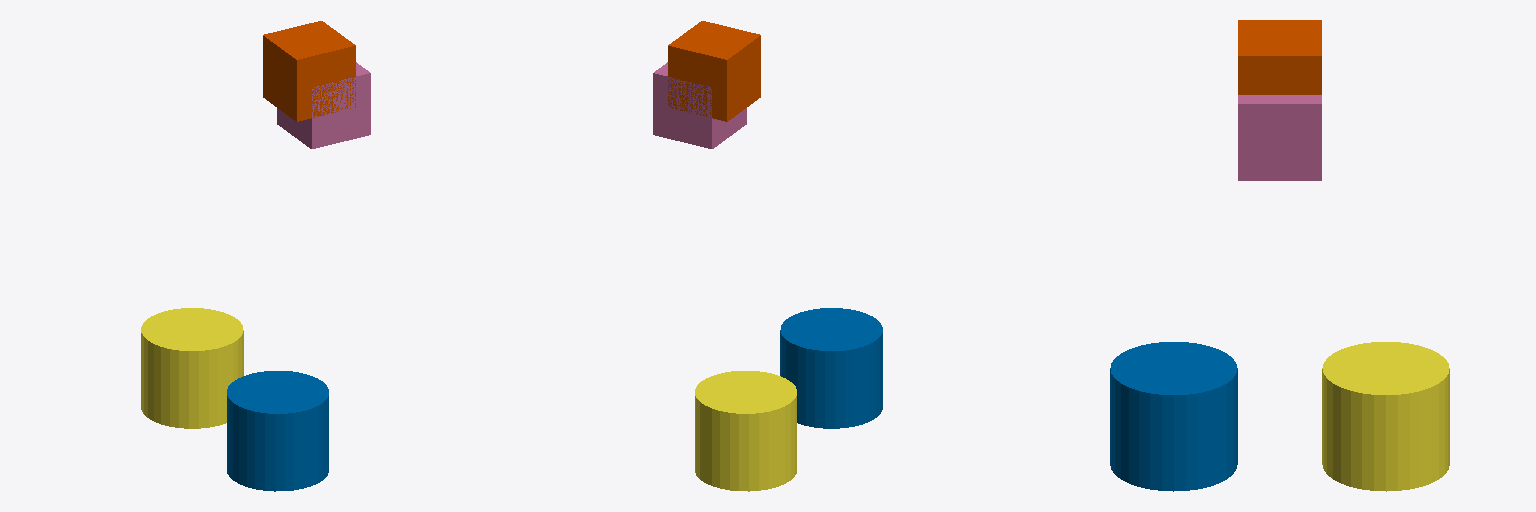
robot.urdf — navel_robot:
<?xml version="1.0"?>
<robot name="navel_robot">


  <link name="base_link"/>

 
  <link name="left_wheel_link">
  </link>

  <joint name="left wheel" type="continuous">
    <parent link="base_link"/>
    <child link="left_wheel_link"/>
  
    <origin xyz="0 0.165 0" rpy="0 0 0"/>
    <axis xyz="0 1 0"/>
  </joint>

  <link name="right_wheel_link">
  </link>

  <joint name="right wheel" type="continuous">
    <parent link="base_link"/>
    <child link="right_wheel_link"/>
    <origin xyz="0 -0.165 0" rpy="0 0 0"/>
    <axis xyz="0 1 0"/>
  </joint>


  <link name="lidar_left_link">
    <visual>
      <geometry>
        <cylinder radius="0.03" length="0.05"/>
      </geometry>
    </visual>
  </link>

  <joint name="lidar_left_joint" type="fixed">
    <parent link="base_link"/>
    <child link="lidar_left_link"/>
    <origin xyz="0.10 0.05 0.20" rpy="0 0 0"/>
  </joint>

  <link name="lidar_right_link">
    <visual>
      <geometry>
        <cylinder radius="0.03" length="0.05"/>
      </geometry>
    </visual>
  </link>

  <joint name="lidar_right_joint" type="fixed">
    <parent link="base_link"/>
    <child link="lidar_right_link"/>
    <origin xyz="0.10 -0.05 0.20" rpy="0 0 0"/>
  </joint>


  <link name="head_camera_link">
    <visual>
      <geometry>
        <box size="0.04 0.04 0.04"/>
      </geometry>
    </visual>
  </link>

  <joint name="head_camera_joint" type="fixed">
    <parent link="base_link"/>
    <child link="head_camera_link"/>
    <origin xyz="0.15 0.00 0.40" rpy="0 0 0"/>
  </joint>


  <link name="wide_angle_camera_link">
    <visual>
      <geometry>
        <box size="0.04 0.04 0.04"/>
      </geometry>
    </visual>
  </link>

  <joint name="wide_angle_camera_joint" type="fixed">
    <parent link="base_link"/>
    <child link="wide_angle_camera_link"/>
    <origin xyz="0.16 0.00 0.38" rpy="0 0 0"/>
  </joint>


  <link name="so1_link"/>
  <joint name="so1_joint" type="fixed">
    <parent link="base_link"/>
    <child link="so1_link"/>
    <origin xyz="0.20 0.10 0.10" rpy="0 0 0"/>
  </joint>

  <link name="so2_link"/>
  <joint name="so2_joint" type="fixed">
    <parent link="base_link"/>
    <child link="so2_link"/>
    <origin xyz="0.20 -0.10 0.10" rpy="0 0 0"/>
  </joint>

  <link name="so3_link"/>
  <joint name="so3_joint" type="fixed">
    <parent link="base_link"/>
    <child link="so3_link"/>
    <origin xyz="-0.10 0.10 0.10" rpy="0 0 0"/>
  </joint>

  <link name="so4_link"/>
  <joint name="so4_joint" type="fixed">
    <parent link="base_link"/>
    <child link="so4_link"/>
    <origin xyz="-0.10 -0.10 0.10" rpy="0 0 0"/>
  </joint>


  <webots>

    <device reference="left wheel sensor" type="PositionSensor">
      <ros>
        <topicName>/left_wheel_sensor</topicName>
        <alwaysOn>true</alwaysOn>
      </ros>
    </device>

    <device reference="right wheel sensor" type="PositionSensor">
      <ros>
        <topicName>/right_wheel_sensor</topicName>
        <alwaysOn>true</alwaysOn>
      </ros>
    </device>

    <device reference="left wheel" type="RotationalMotor">
      <ros>
        <topicName>/left_wheel/velocity</topicName>
      </ros>
    </device>

    <device reference="right wheel" type="RotationalMotor">
      <ros>
        <topicName>/right_wheel/velocity</topicName>
      </ros>
    </device>

    <device reference="head_camera" type="Camera">
      <ros>
        <topicName>/head_camera</topicName>
        <frameName>head_camera_link</frameName>
        <alwaysOn>true</alwaysOn>
      </ros>
    </device>

    <device reference="2dwide_angle_camera" type="Camera">
      <ros>
        <topicName>/2dwide_angle_camera</topicName>
        <frameName>wide_angle_camera_link</frameName>
        <alwaysOn>true</alwaysOn>
      </ros>
    </device>

    <device reference="lidar_right" type="Lidar">
      <ros>
        <topicName>/lidar_right</topicName>
        <frameName>lidar_right_link</frameName>
        <publishLaserScan>true</publishLaserScan>
        <alwaysOn>true</alwaysOn>
      </ros>
    </device>

    <device reference="lidar_left" type="Lidar">
      <ros>
        <topicName>/lidar_left</topicName>
        <frameName>lidar_left_link</frameName>
        <publishLaserScan>true</publishLaserScan>
        <alwaysOn>true</alwaysOn>
      </ros>
    </device>

    <device reference="so1" type="DistanceSensor">
      <ros>
        <topicName>/so1</topicName>
        <frameName>so1_link</frameName>
        <alwaysOn>true</alwaysOn>
      </ros>
    </device>

    <device reference="so2" type="DistanceSensor">
      <ros>
        <topicName>/so2</topicName>
        <frameName>so2_link</frameName>
        <alwaysOn>true</alwaysOn>
      </ros>
    </device>

    <device reference="so3" type="DistanceSensor">
      <ros>
        <topicName>/so3</topicName>
        <frameName>so3_link</frameName>
        <alwaysOn>true</alwaysOn>
      </ros>
    </device>

    <device reference="so4" type="DistanceSensor">
      <ros>
        <topicName>/so4</topicName>
        <frameName>so4_link</frameName>
        <alwaysOn>true</alwaysOn>
      </ros>
    </device>

    <plugin type="my_package.navel_driver.NavelDriver"/>

  </webots>

</robot>

--- Render facts (derived) ---
The picture shows the robot from 3 angles, left to right: view 1: azimuth 30°, elevation 25°; view 2: azimuth 150°, elevation 25°; view 3: azimuth 270°, elevation 25°; orthographic projection.
Robot: navel_robot — 11 links, 10 joints (2 continuous, 8 fixed); root link base_link; default pose: every joint at zero.
Links seen in each view (by area): view 1: lidar_right_link, lidar_left_link, head_camera_link, wide_angle_camera_link; view 2: lidar_left_link, lidar_right_link, head_camera_link, wide_angle_camera_link; view 3: lidar_left_link, lidar_right_link, wide_angle_camera_link, head_camera_link.
Boxes of the visible links, <box> form: lidar_right_link: <box>227,371,328,491</box>; lidar_left_link: <box>141,308,243,428</box>; head_camera_link: <box>263,21,355,121</box>; wide_angle_camera_link: <box>277,62,370,148</box>; lidar_left_link: <box>695,371,796,491</box>; lidar_right_link: <box>780,308,882,428</box>; head_camera_link: <box>668,21,760,121</box>; wide_angle_camera_link: <box>653,62,746,148</box>; lidar_left_link: <box>1322,342,1449,491</box>; lidar_right_link: <box>1110,342,1237,491</box>; wide_angle_camera_link: <box>1238,95,1321,180</box>; head_camera_link: <box>1238,20,1321,94</box>.
Bounding box of the posed robot: 0.11 × 0.16 × 0.245 m (x, y, z).
Geometry: primitives only (box / cylinder / sphere), no mesh files.
